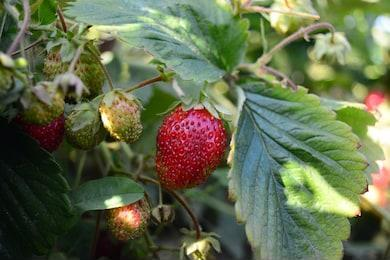Fresa: (150, 99, 230, 195)
